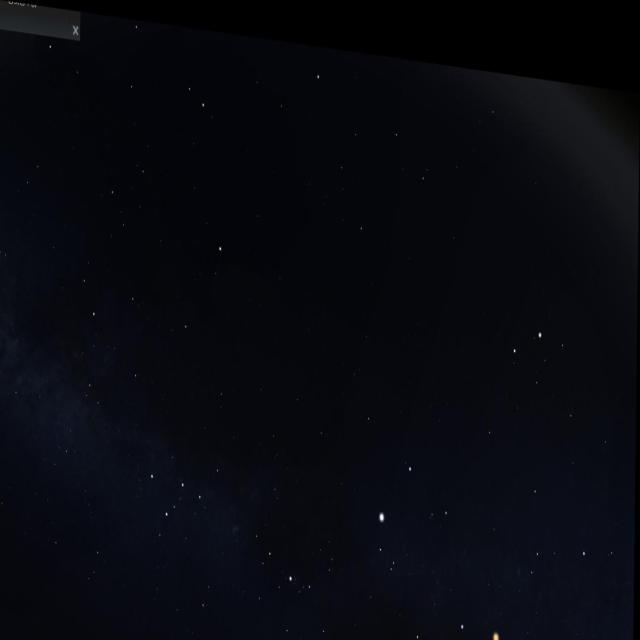cassiopeia: (149, 426, 226, 543)
